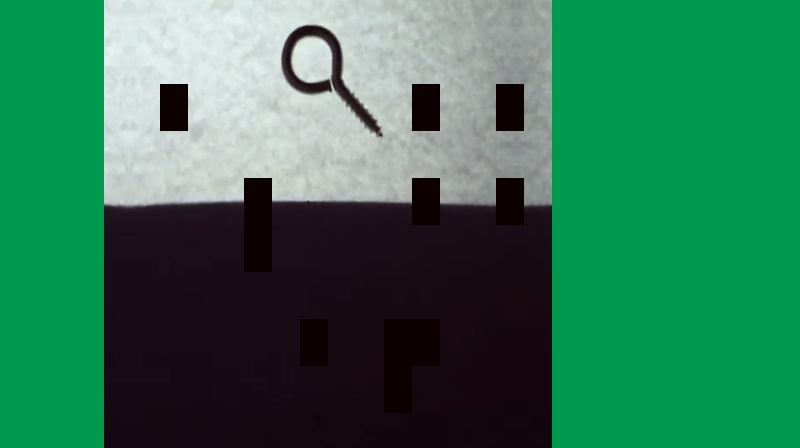O001: (277, 17, 391, 144)
